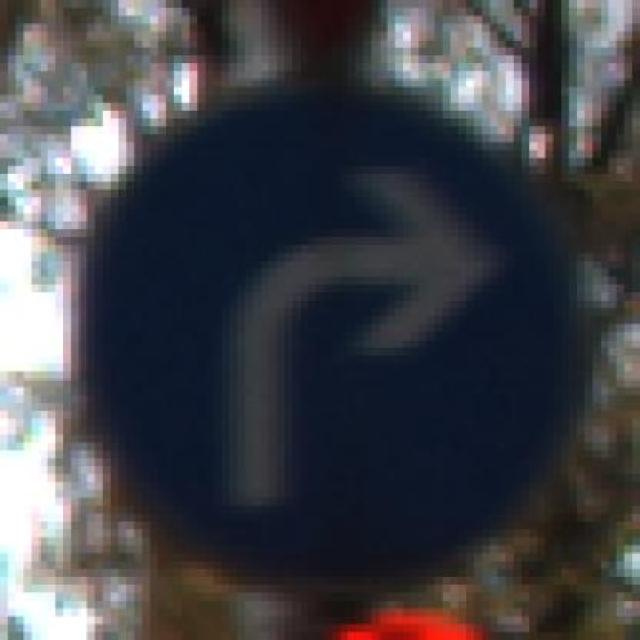Turn right ahead: (55, 87, 592, 593)
